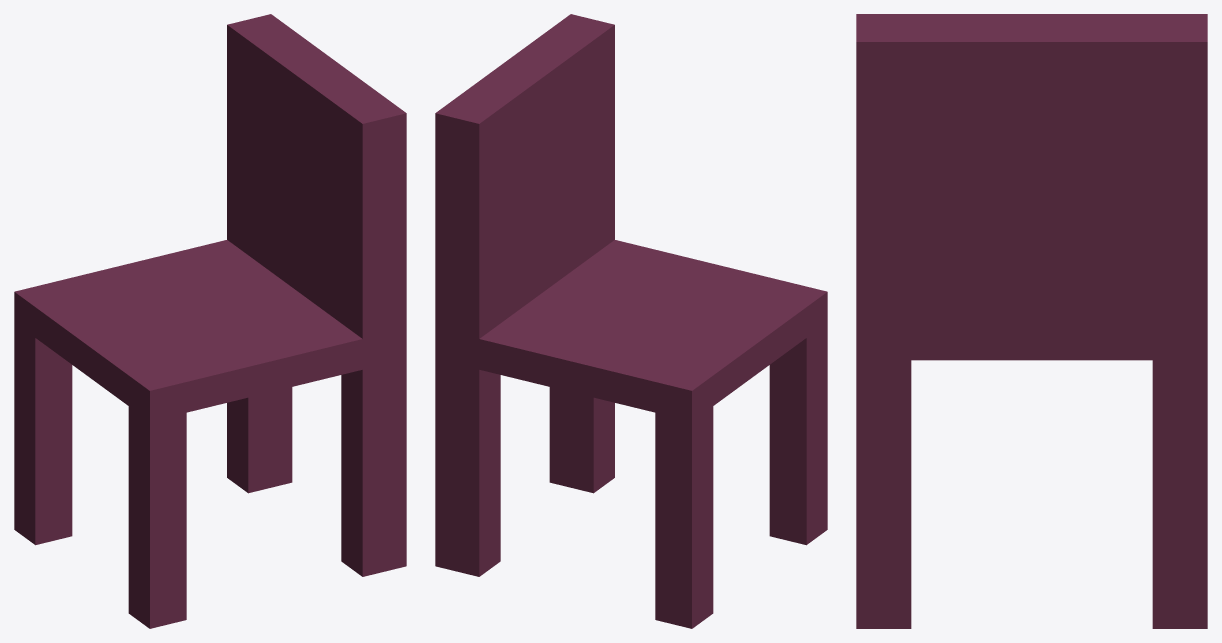
The model's file is Chair.fbx.
The picture shows the model from 3 angles, left to right: view 1: azimuth 30°, elevation 25°; view 2: azimuth 150°, elevation 25°; view 3: azimuth 270°, elevation 25°; orthographic projection. The views are drawn at different scales.
Visible parts, largest first — view 1: Cube; view 2: Cube; view 3: Cube.
Boxes of the visible parts, box(x1,y1,x2,y2) form: Cube: box(14, 14, 406, 628); Cube: box(435, 14, 827, 628); Cube: box(856, 14, 1207, 628).
Size of the model in its own units: 35 by 59 by 32.
